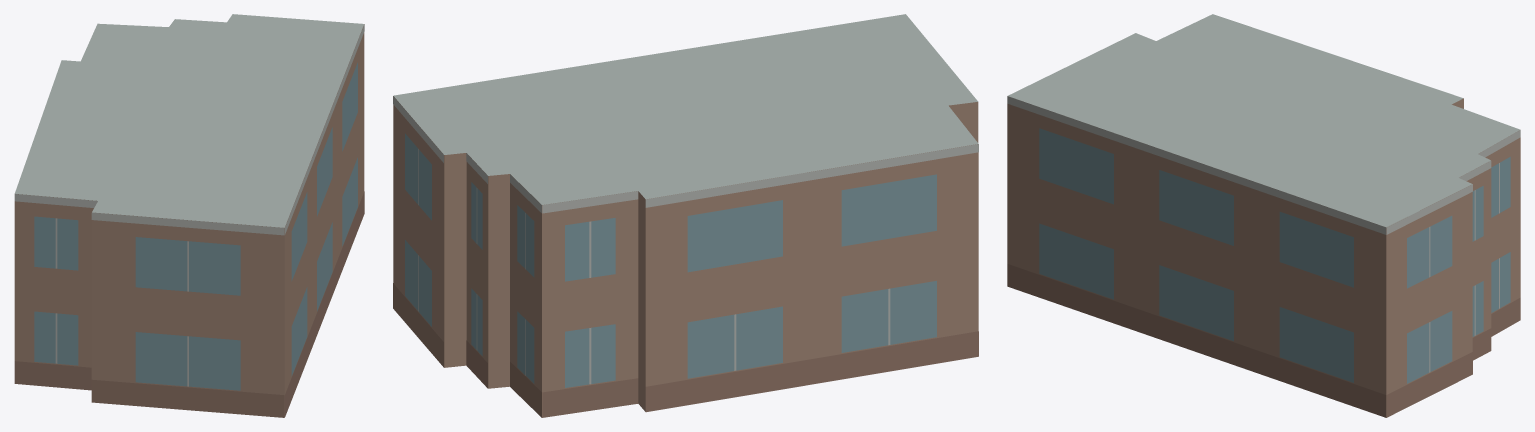
File: survey-upis-32712242.glb
The picture shows the model from 3 angles, left to right: view 1: azimuth 30°, elevation 25°; view 2: azimuth 150°, elevation 25°; view 3: azimuth 270°, elevation 25°; orthographic projection. The views are drawn at different scales.
Visible parts, largest first — view 1: survey-upis-32712242.tmp; view 2: survey-upis-32712242.tmp; view 3: survey-upis-32712242.tmp.
Boxes of the visible parts, left/top/right/bottom form: survey-upis-32712242.tmp: left=14, top=14, right=364, bottom=417; survey-upis-32712242.tmp: left=393, top=14, right=978, bottom=417; survey-upis-32712242.tmp: left=1007, top=14, right=1520, bottom=417.
Size of the model in its own units: 14.67 by 6.1 by 14.91.
